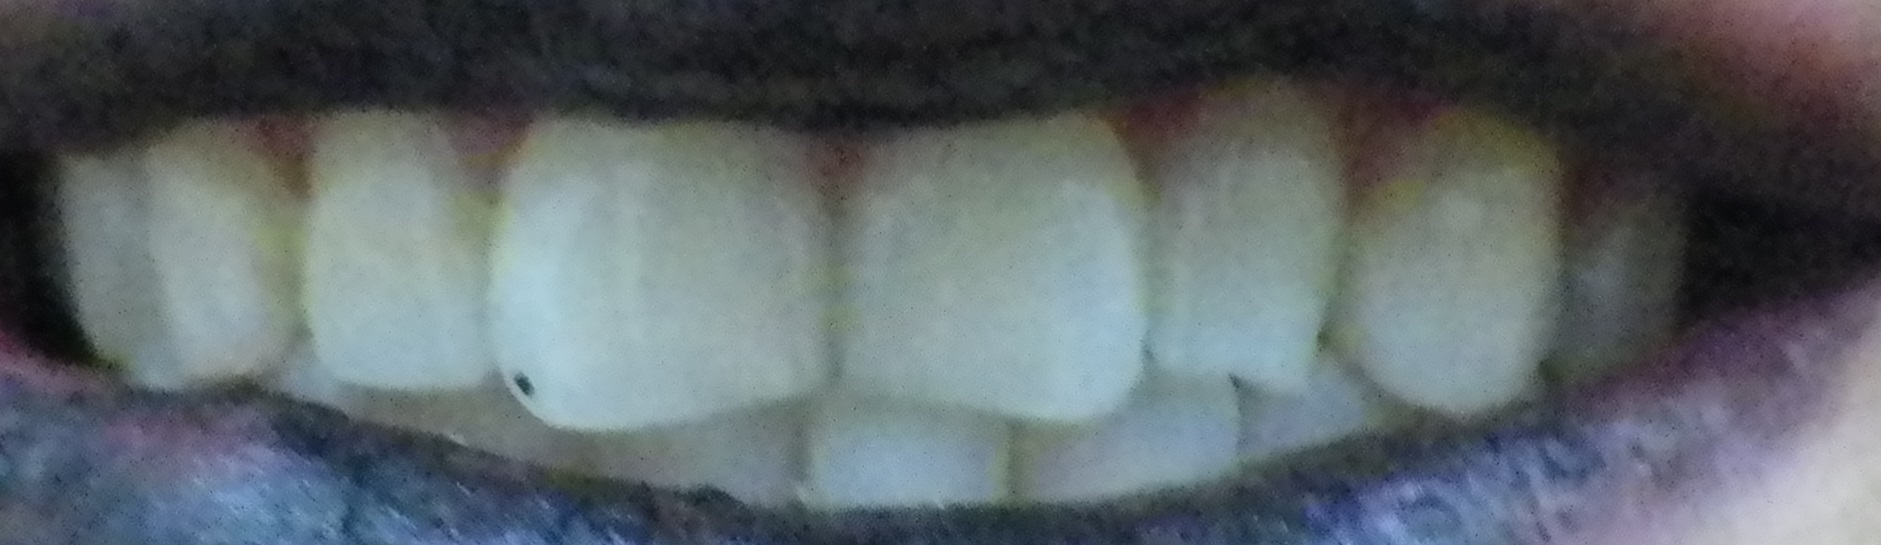boca: (54, 74, 1685, 511)
